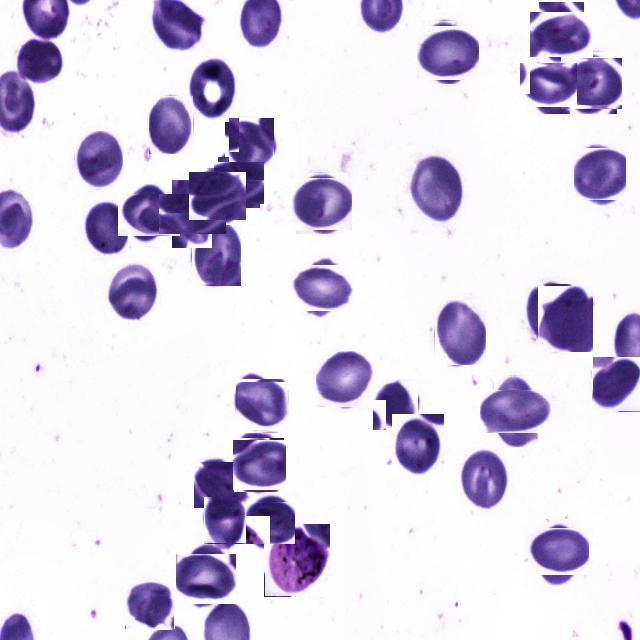difficult: (264, 524, 330, 597)
red blood cell: (408, 155, 466, 227), (538, 286, 593, 352), (418, 23, 476, 82), (106, 260, 160, 322), (435, 300, 486, 365), (487, 383, 545, 440), (316, 351, 373, 408), (563, 55, 620, 112), (392, 414, 444, 476), (294, 175, 350, 232), (294, 259, 350, 316), (528, 524, 584, 580), (178, 550, 234, 606), (192, 222, 241, 286), (460, 448, 510, 510), (526, 284, 576, 344), (165, 187, 219, 241), (534, 7, 588, 61), (74, 131, 123, 190), (123, 188, 176, 242), (82, 200, 131, 258), (191, 170, 244, 223), (189, 58, 234, 120), (574, 147, 626, 200), (233, 439, 285, 491), (236, 381, 288, 432), (592, 357, 640, 412), (522, 60, 574, 110), (194, 462, 250, 508), (149, 96, 193, 154), (125, 580, 175, 630), (15, 35, 63, 87), (227, 120, 277, 169), (372, 381, 421, 428), (216, 159, 262, 206), (248, 501, 294, 546), (204, 497, 248, 544)
